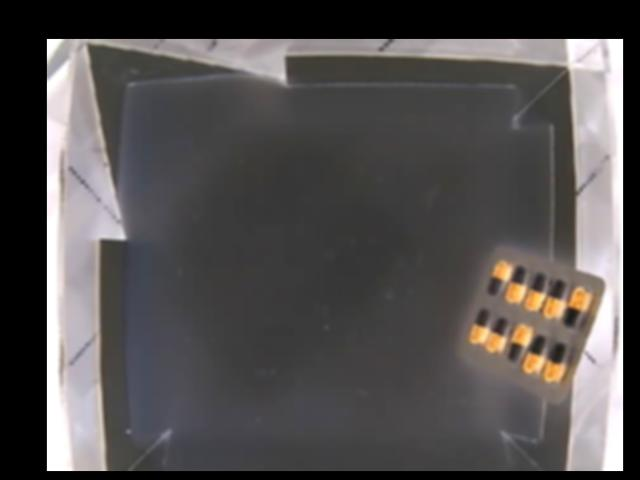Medicine: (460, 245, 606, 402)
